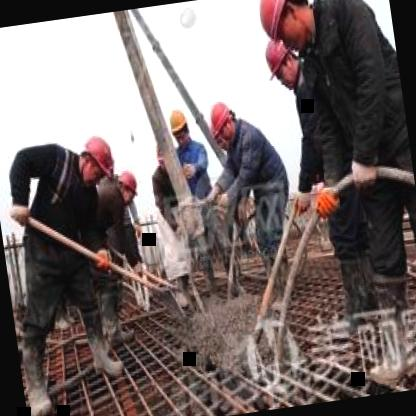helmet: (250, 0, 321, 58), (254, 33, 310, 96), (74, 131, 120, 193), (206, 96, 240, 150), (112, 166, 140, 206), (166, 102, 192, 145)
